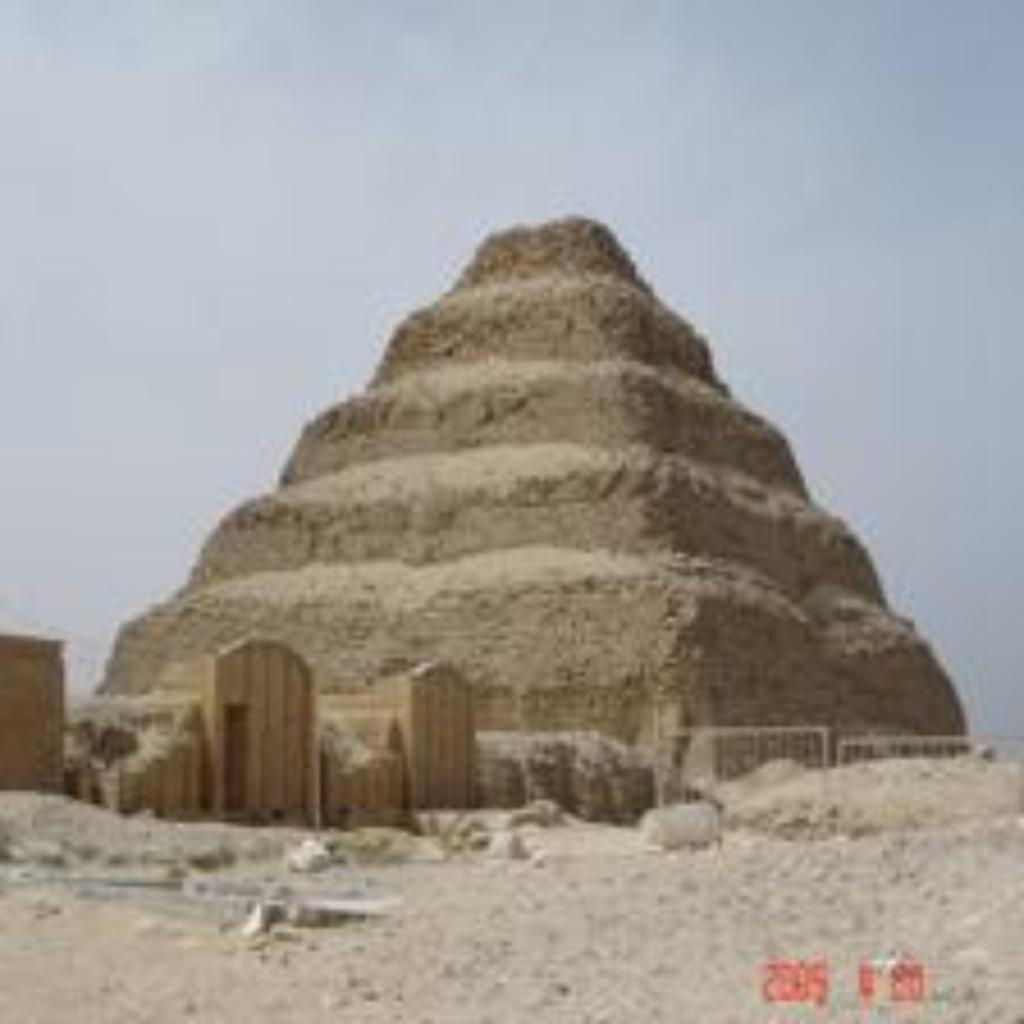Pyramid of Djoser: (73, 206, 974, 818)
